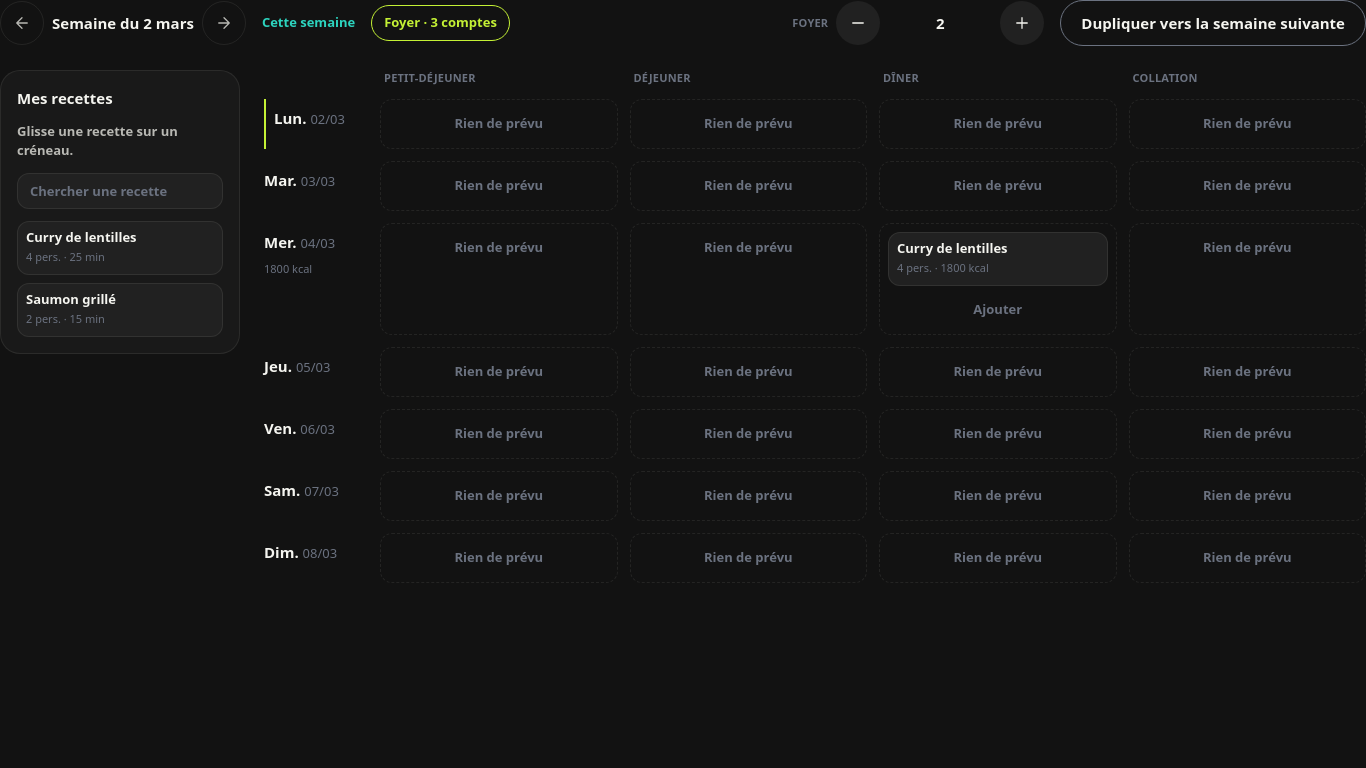
Scenario: WeekPlanner › says the plan is shared, because someone else writing on it is a surprise
Expected: the link with test id "shared-plan" shows "3 comptes", [371,5,510,41]
# And the sheet says whose idea Wednesday was.
Click the button with aria-label "Modifier Curry de lentilles".
click(998, 259)  # box [897,240,1098,277]
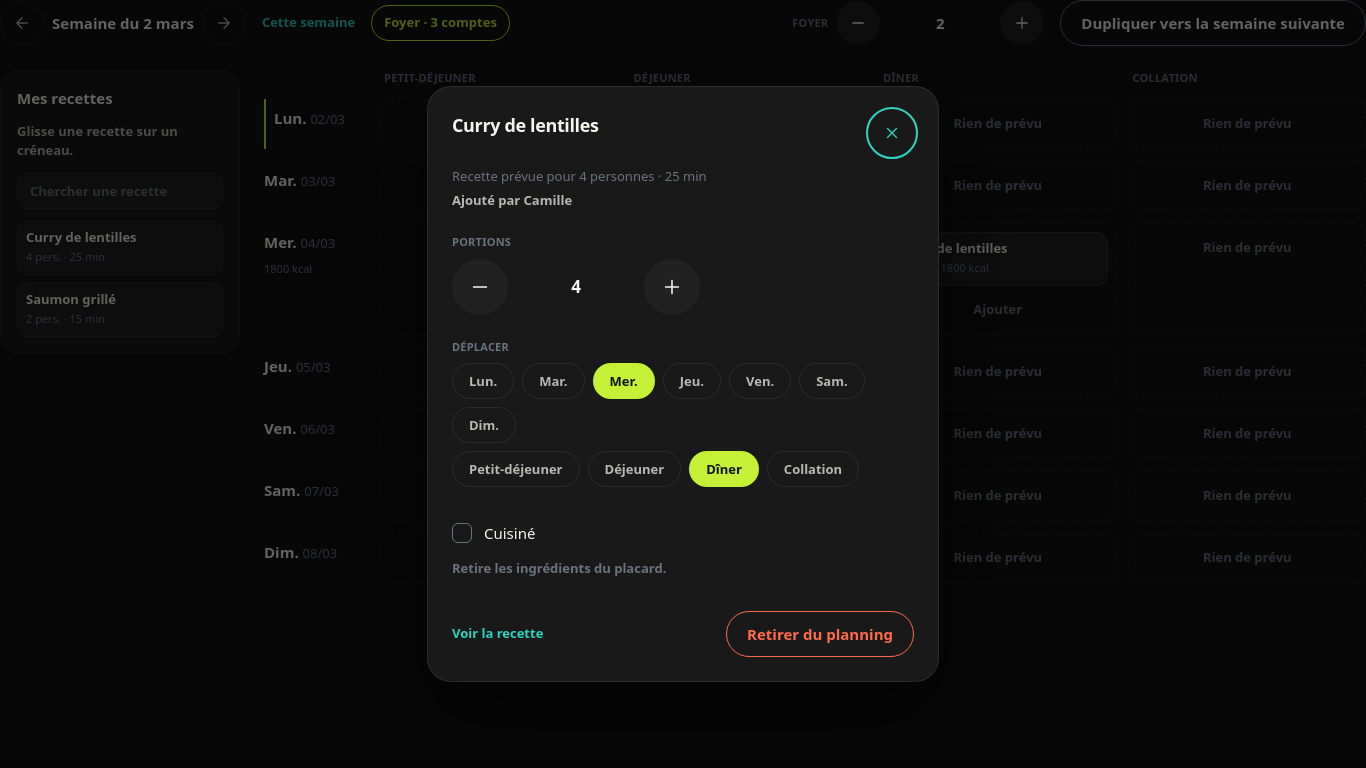
Expected: the text with test id "planned-by" reads "Ajouté par Camille", [452,191,572,209]
